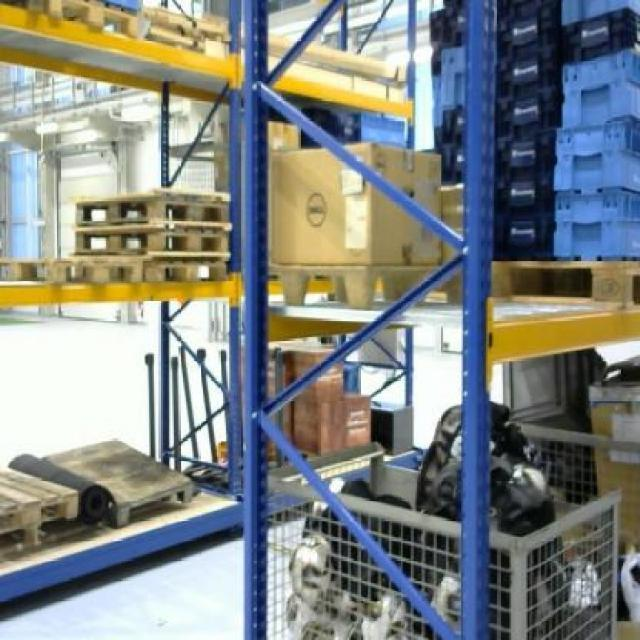box: (264, 138, 440, 266), (290, 350, 344, 404), (294, 400, 346, 452), (342, 392, 371, 448)
